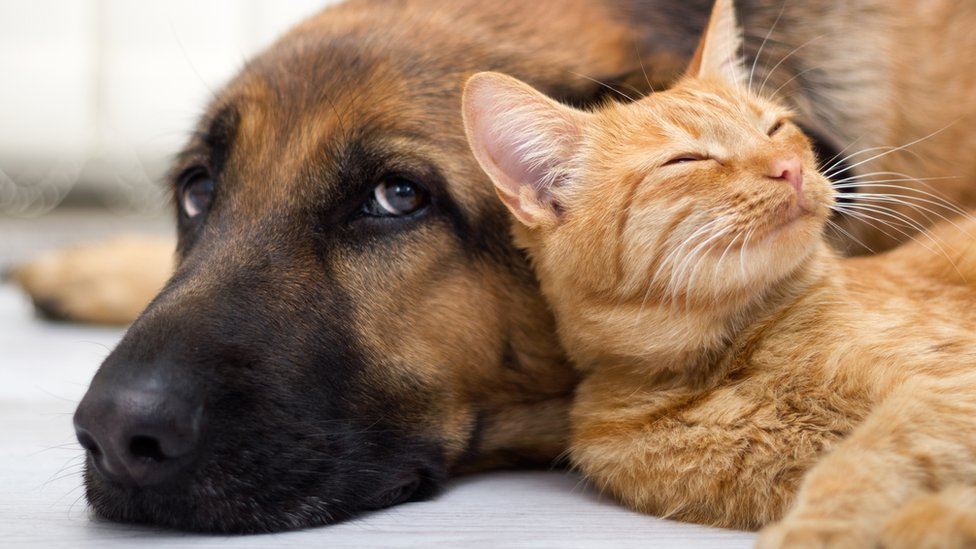pet: (483, 79, 976, 549), (90, 3, 438, 532)
